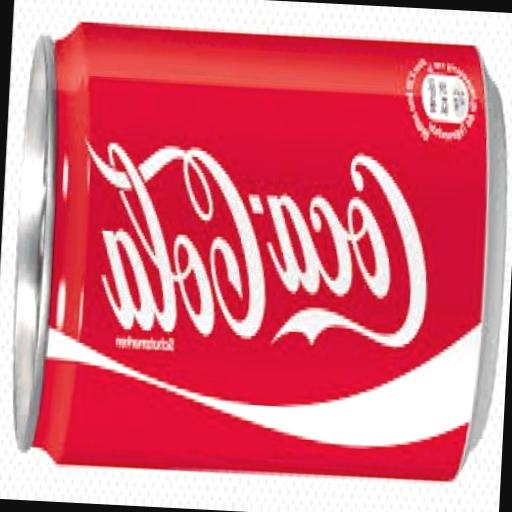metal: (6, 16, 508, 484)
